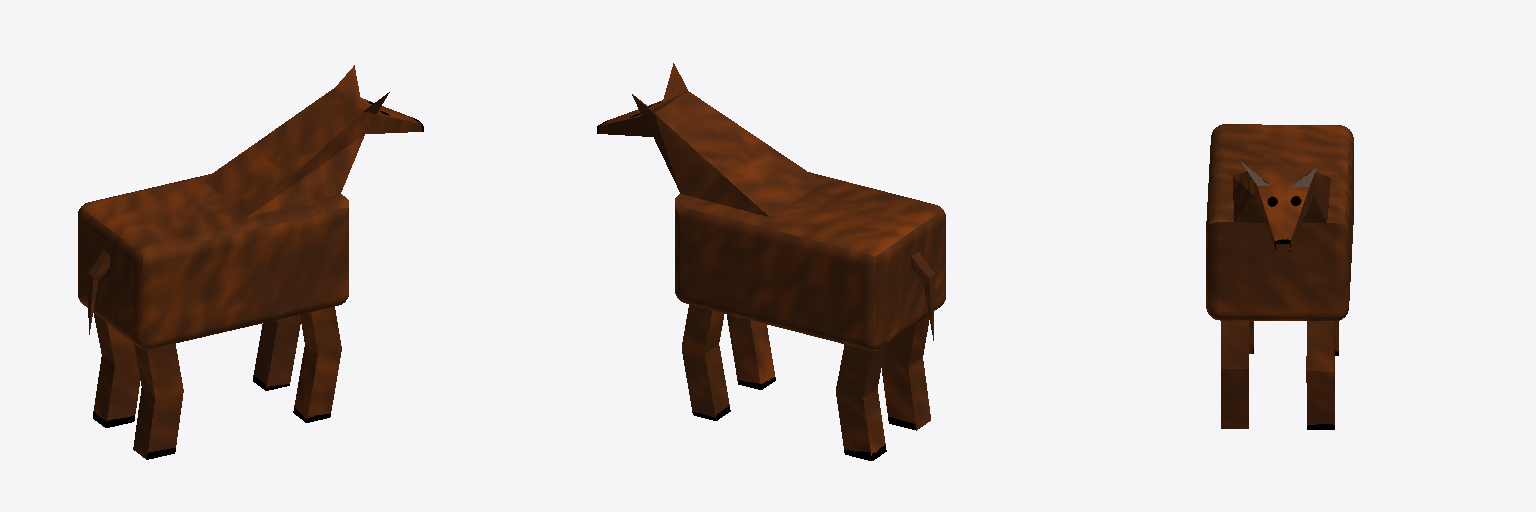
3 renders of one model, left to right at view 1: azimuth 30°, elevation 25°; view 2: azimuth 150°, elevation 25°; view 3: azimuth 270°, elevation 25°, orthographic.
Visible parts, largest first — view 1: Cube; view 2: Cube; view 3: Cube.
Boxes of the visible parts, <box> form: Cube: <box>78,65,423,459</box>; Cube: <box>597,63,945,460</box>; Cube: <box>1206,124,1353,429</box>.
Bounding box in the file's own units: 2.61 × 2.27 × 1.01.
1 materials, 1 textured.